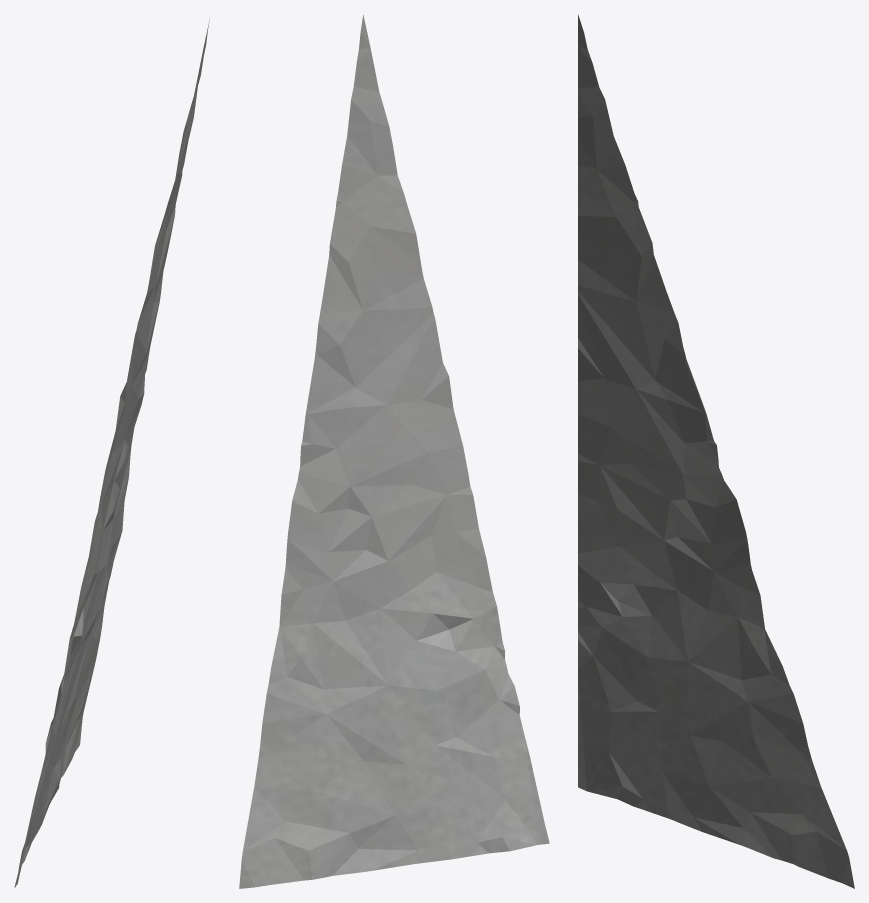
3 renders of one model, left to right at view 1: azimuth 30°, elevation 25°; view 2: azimuth 150°, elevation 25°; view 3: azimuth 270°, elevation 25°, orthographic. The views are drawn at different scales.
Bounding box in the file's own units: 0.1986 × 0.7978 × 0.2288.
1 material, 1 textured.
